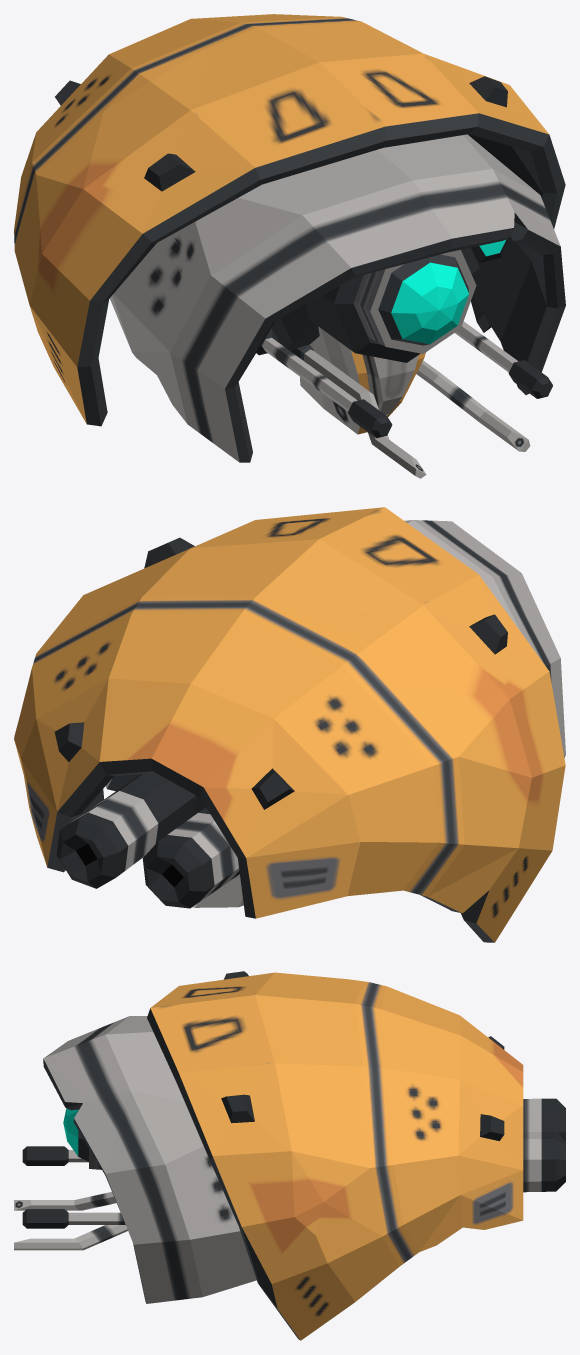
Rendered from SM_Prop_Drone_01.fbx.
The picture shows the model from 3 angles, top to bottom: view 1: azimuth 30°, elevation 25°; view 2: azimuth 150°, elevation 25°; view 3: azimuth 270°, elevation 25°; orthographic projection. The views are drawn at different scales.
Visible parts, largest first — view 1: SM_Prop_Drone_01; view 2: SM_Prop_Drone_01; view 3: SM_Prop_Drone_01.
Boxes of the visible parts, bbox=[...] form: SM_Prop_Drone_01: bbox=[14, 14, 565, 478]; SM_Prop_Drone_01: bbox=[14, 507, 565, 942]; SM_Prop_Drone_01: bbox=[14, 971, 565, 1340].
Size of the model in its own units: 95.39 by 62.74 by 117.
